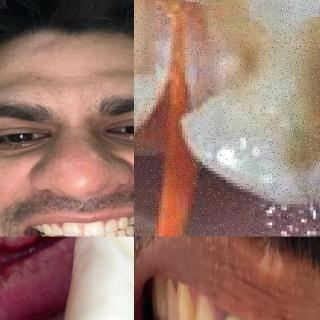Gum Swelling: (180, 0, 320, 194), (134, 0, 180, 142)
plaque: (187, 295, 200, 320)
